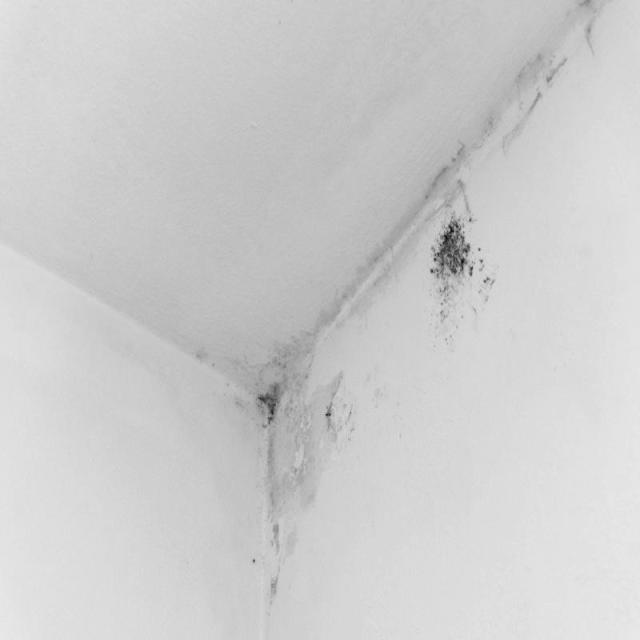stain marks: (196, 2, 637, 621)
